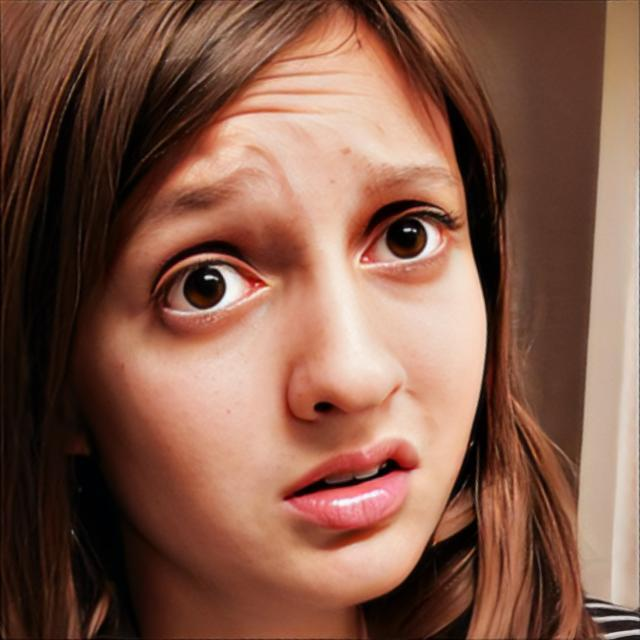Fear: (86, 2, 492, 610)
